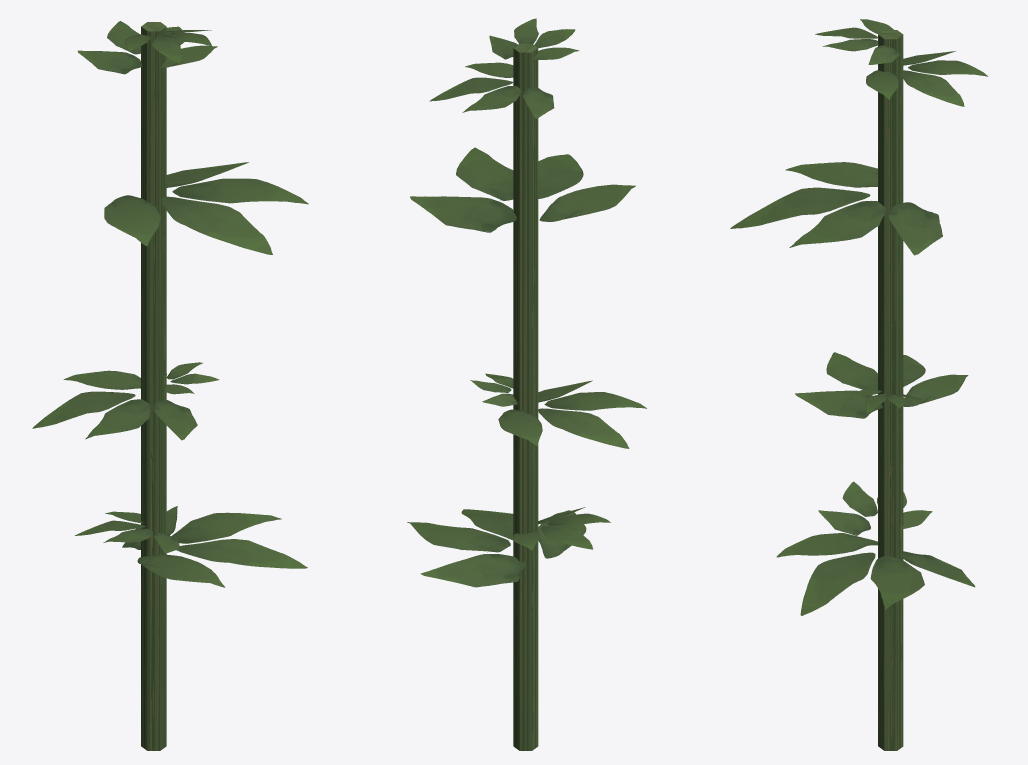
Rendered from bamboo1.fbx.
3 renders of one model, left to right at view 1: azimuth 30°, elevation 25°; view 2: azimuth 150°, elevation 25°; view 3: azimuth 270°, elevation 25°, orthographic. The views are drawn at different scales.
Parts seen in each view (by area): view 1: Cylinder; view 2: Cylinder; view 3: Cylinder.
Part boxes in pixels (x1,y1,x2,y2): Cylinder: (32, 21, 308, 750); Cylinder: (407, 18, 646, 750); Cylinder: (730, 19, 987, 750).
Size of the model in its own units: 305 by 686 by 258.
